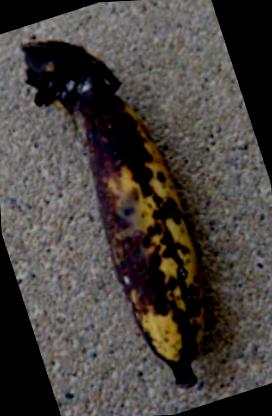Banana Overripe: (0, 12, 265, 406)
